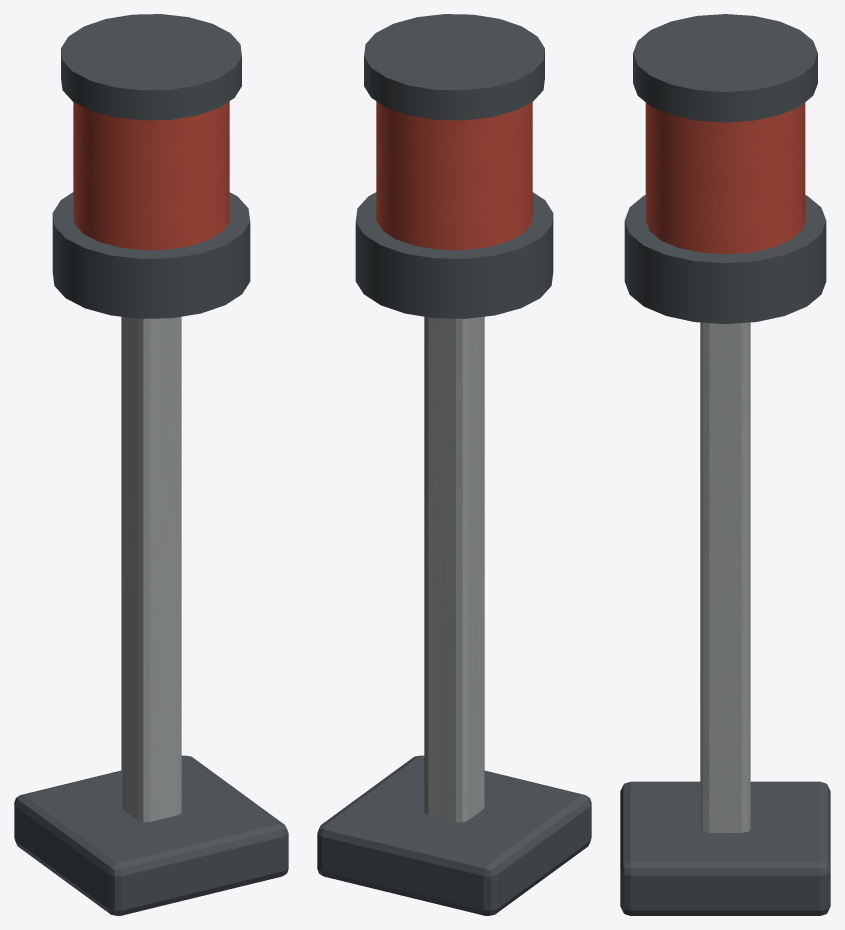
The model's file is pad_signal_beacon.glb.
The picture shows the model from 3 angles, left to right: view 1: azimuth 30°, elevation 25°; view 2: azimuth 150°, elevation 25°; view 3: azimuth 270°, elevation 25°; orthographic projection.
Visible parts, largest first — view 1: Pole.001, MountFoot, BeaconLens, BeaconCap, BeaconBase; view 2: Pole.001, MountFoot, BeaconLens, BeaconCap, BeaconBase; view 3: Pole.001, MountFoot, BeaconLens, BeaconCap, BeaconBase.
Boxes of the visible parts, bbox=[...] form: Pole.001: bbox=[121, 316, 181, 822]; MountFoot: bbox=[14, 755, 288, 915]; BeaconLens: bbox=[73, 101, 229, 250]; BeaconCap: bbox=[61, 14, 241, 120]; BeaconBase: bbox=[52, 192, 250, 318]; Pole.001: bbox=[424, 316, 484, 822]; MountFoot: bbox=[317, 755, 591, 915]; BeaconLens: bbox=[376, 101, 532, 250]; BeaconCap: bbox=[364, 14, 544, 120]; BeaconBase: bbox=[355, 192, 553, 318]; Pole.001: bbox=[700, 322, 750, 832]; MountFoot: bbox=[620, 781, 830, 915]; BeaconLens: bbox=[645, 102, 805, 254]; BeaconCap: bbox=[633, 14, 817, 122]; BeaconBase: bbox=[624, 195, 826, 323].
Bounding box in the file's own units: 0.25 × 1.08 × 0.25.
Materials: 3 (2 with a texture image).
